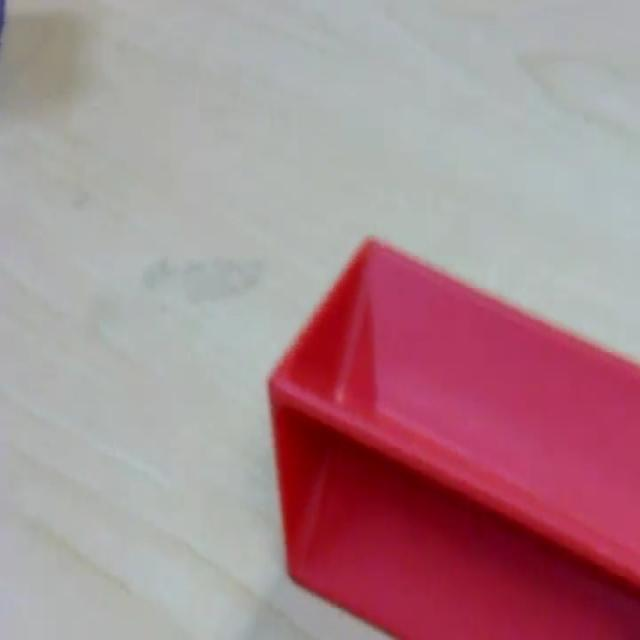red_block: (266, 232, 638, 637)
